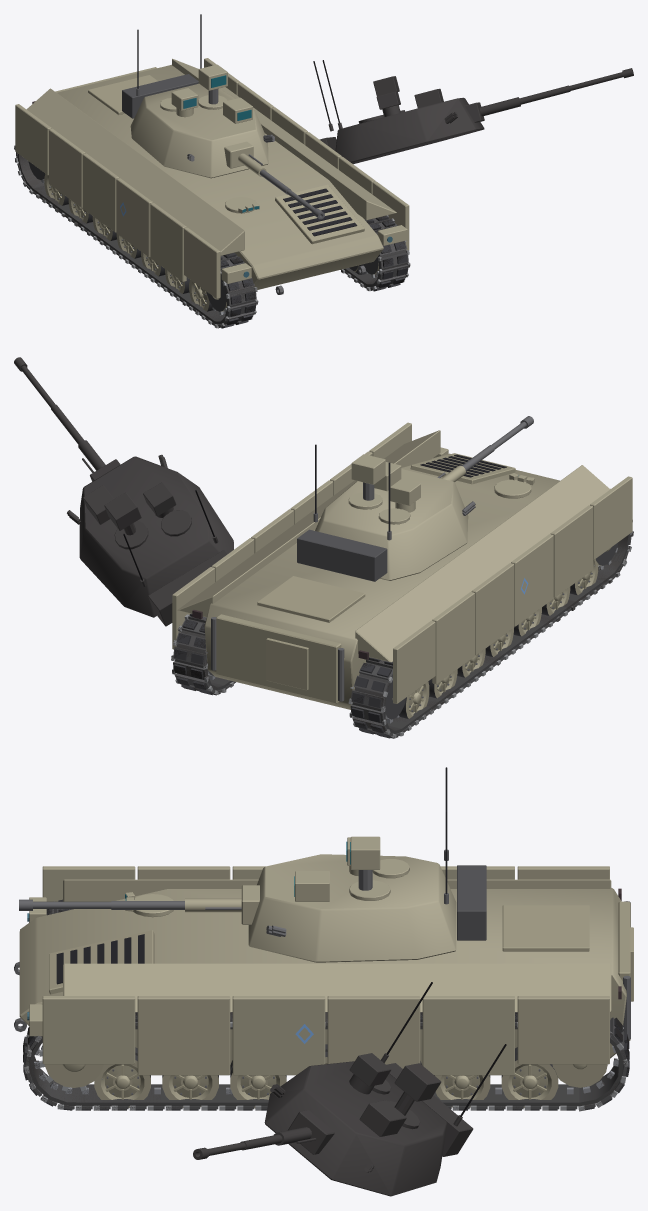
The model's file is reconVehicle__ajax.glb.
The picture shows the model from 3 angles, top to bottom: view 1: azimuth 30°, elevation 25°; view 2: azimuth 150°, elevation 25°; view 3: azimuth 270°, elevation 25°; orthographic projection. The views are drawn at different scales.
Visible parts, largest first — view 1: Hull_Mesh, Turret_Mesh, Wreck, Track_L_Mesh, Track_R_Mesh, Gun_Mesh; view 2: Hull_Mesh, Wreck, Turret_Mesh, Track_L_Mesh, Track_R_Mesh, Gun_Mesh, Wheel_L0_Mesh; view 3: Hull_Mesh, Wreck, Turret_Mesh, Track_R_Mesh, Gun_Mesh, Wheel_R0_Mesh, Wheel_R6_Mesh, Wheel_R5_Mesh, Sprocket_R_Mesh, Wheel_R1_Mesh, Wheel_R4_Mesh, Idler_R_Mesh.
Boxes of the visible parts, <box> form: Hull_Mesh: <box>15,58,409,298</box>; Turret_Mesh: <box>122,14,274,178</box>; Wreck: <box>14,60,633,328</box>; Track_L_Mesh: <box>14,145,258,328</box>; Track_R_Mesh: <box>340,215,410,291</box>; Gun_Mesh: <box>224,141,324,219</box>; Hull_Mesh: <box>172,422,632,709</box>; Wreck: <box>14,357,633,737</box>; Turret_Mesh: <box>297,444,475,581</box>; Track_L_Mesh: <box>348,520,633,738</box>; Track_R_Mesh: <box>171,613,235,695</box>; Gun_Mesh: <box>437,416,533,481</box>; Wheel_L0_Mesh: <box>399,681,429,718</box>; Hull_Mesh: <box>14,866,633,1075</box>; Wreck: <box>23,900,629,1196</box>; Turret_Mesh: <box>248,767,486,962</box>; Track_R_Mesh: <box>23,1013,629,1111</box>; Gun_Mesh: <box>19,885,259,924</box>; Wheel_R0_Mesh: <box>501,1047,558,1107</box>; Wheel_R6_Mesh: <box>94,1047,150,1107</box>; Wheel_R5_Mesh: <box>162,1075,218,1107</box>; Sprocket_R_Mesh: <box>39,1045,103,1091</box>; Wheel_R1_Mesh: <box>434,1075,490,1107</box>; Wheel_R4_Mesh: <box>230,1060,286,1108</box>; Idler_R_Mesh: <box>552,1064,607,1087</box>.
Size of what is drawn, in the model's own units: 8.84 by 3.31 by 7.13.
